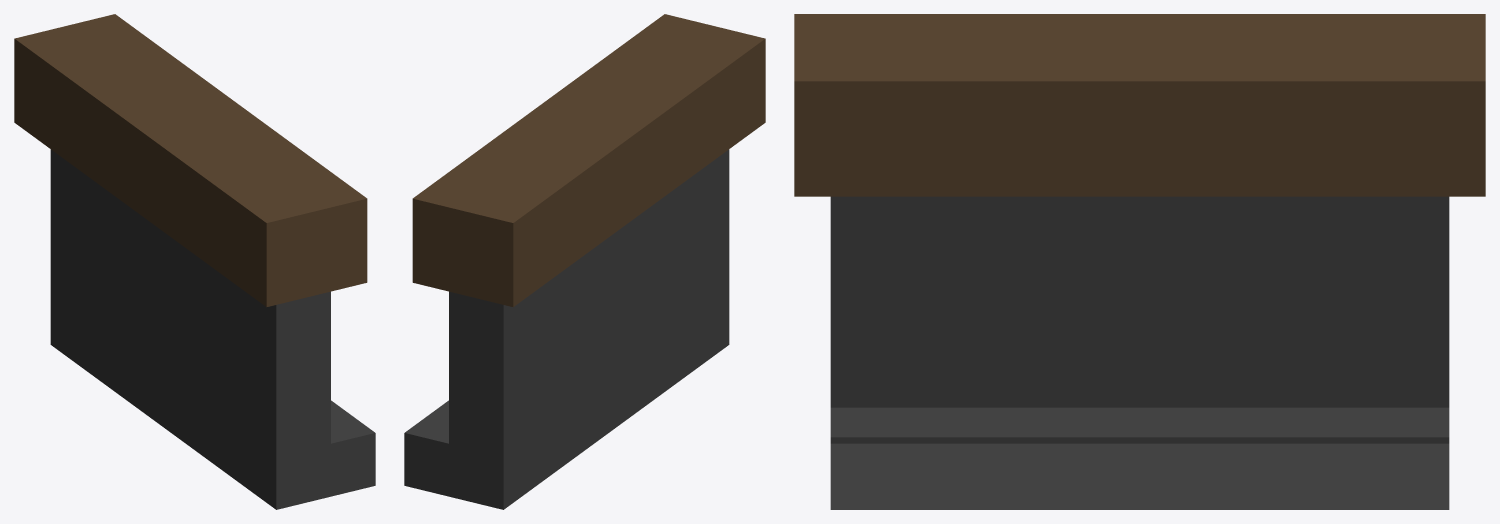
The model's file is Itr_Officechair_Side_Left_04.FBX.
3 views of the same model, side by side, from view 1: azimuth 30°, elevation 25°; view 2: azimuth 150°, elevation 25°; view 3: azimuth 270°, elevation 25° (orthographic). The views are drawn at different scales.
Visible parts, largest first — view 1: Itr_Officechair_Side_Left_04; view 2: Itr_Officechair_Side_Left_04; view 3: Itr_Officechair_Side_Left_04.
Part boxes in pixels (left/top/right/bottom): Itr_Officechair_Side_Left_04: left=14, top=14, right=375, bottom=509; Itr_Officechair_Side_Left_04: left=404, top=14, right=765, bottom=509; Itr_Officechair_Side_Left_04: left=794, top=14, right=1485, bottom=509.
Size of the model in its own units: 5.8 by 13.72 by 20.76.
